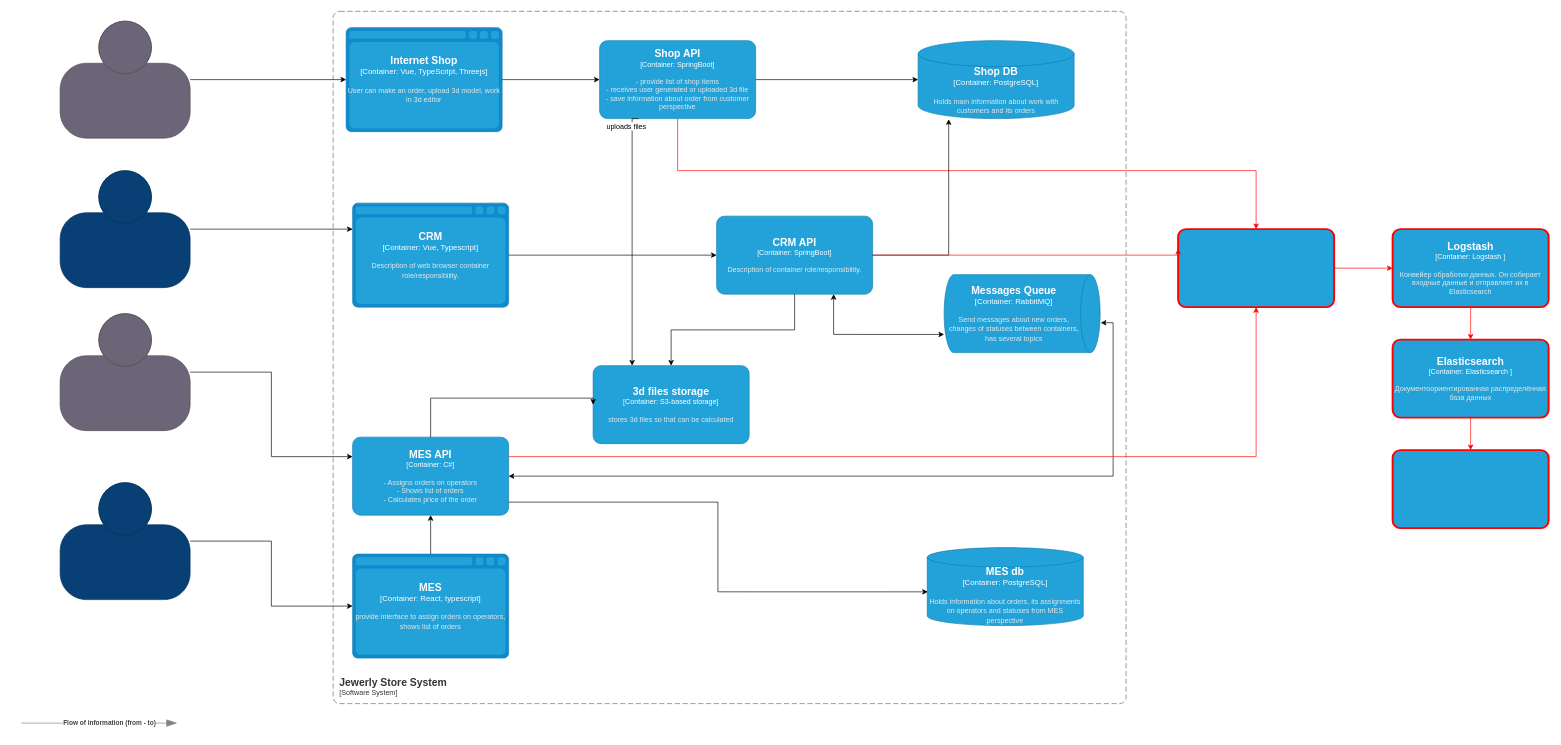
Some shapes in this 1561 by 745 pixel diagram are drawn without their labels. Each missing label, with the centre of its shape:
API user [Person] Description of external person.: the point at 124,372
Customer [Person] Description of external person.: the point at 124,79
Filebeat [Container: Filebeat ] Агрегирует данные из разных источников: the point at 1256,268
Kibana [Container: Kibana] Инструмент для визуализации логов: the point at 1470,489
Operator [Person] Takes order in work, manufactures jewerly: the point at 124,541
Seller [Person] Operates with order, confirms manufacturing for the user: the point at 124,229
